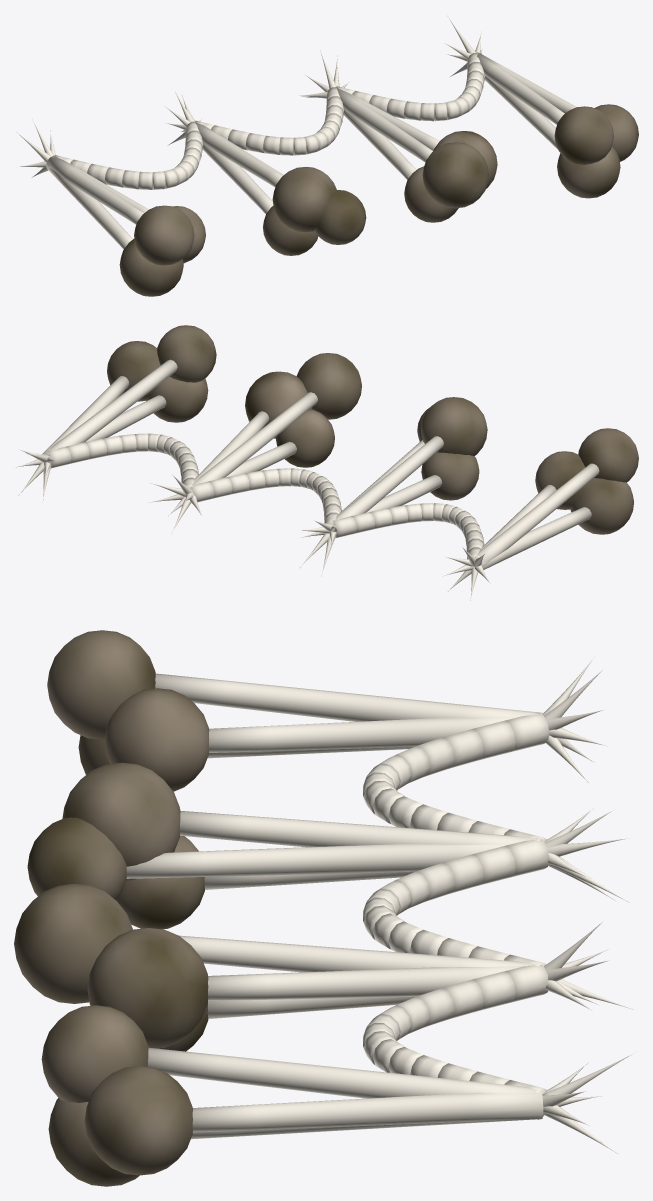
File: rhizopus-oligosporus.glb
3 renders of one model, top to bottom at view 1: azimuth 30°, elevation 25°; view 2: azimuth 150°, elevation 25°; view 3: azimuth 270°, elevation 25°, orthographic. The views are drawn at different scales.
Parts seen in each view (by area): view 1: sporangia, stolons_rhizoids; view 2: stolons_rhizoids, sporangia; view 3: stolons_rhizoids, sporangia.
Part boxes in pixels (x1,y1,x2,y2): sporangia: [119, 104, 638, 296]; stolons_rhizoids: [16, 17, 576, 249]; stolons_rhizoids: [16, 359, 599, 600]; sporangia: [107, 325, 638, 534]; stolons_rhizoids: [126, 657, 635, 1153]; sporangia: [14, 630, 209, 1186].
Size of the model in its own units: 3.63 by 0.6262 by 2.11.
